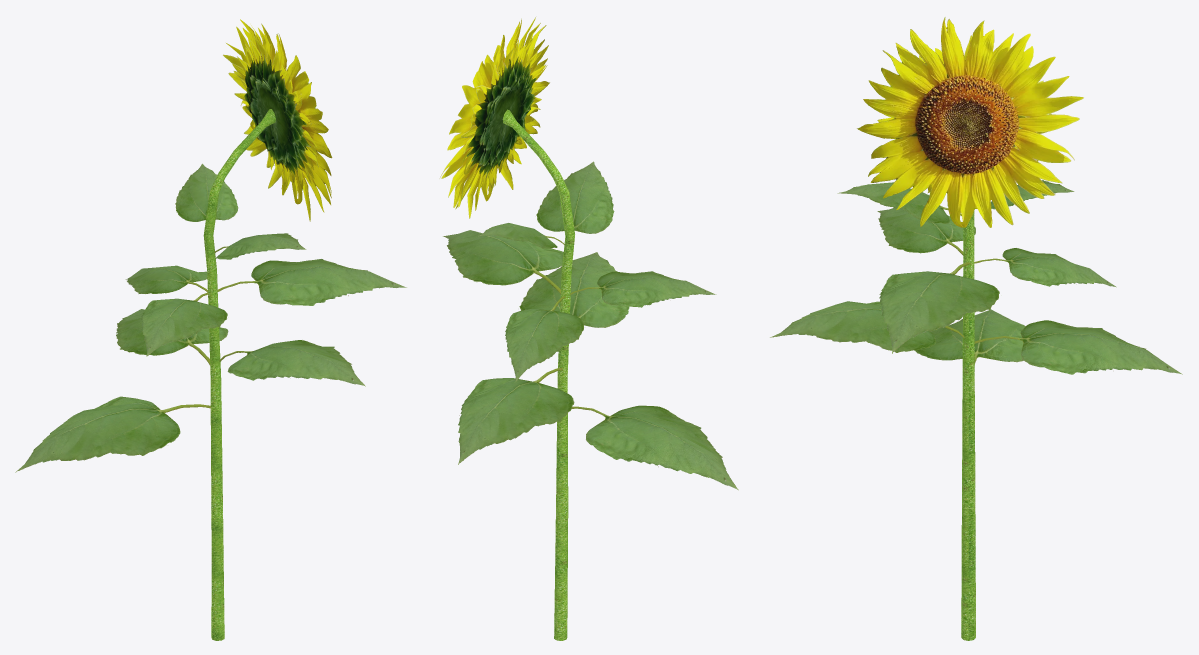
File: girasol-planta.glb
The picture shows the model from 3 angles, left to right: view 1: azimuth 30°, elevation 25°; view 2: azimuth 150°, elevation 25°; view 3: azimuth 270°, elevation 25°; orthographic projection. The views are drawn at different scales.
Parts seen in each view (by area): view 1: Object_2; view 2: Object_2; view 3: Object_2.
Boxes of the visible parts, x1,y1,x2,y2 form: Object_2: (15,19,406,640); Object_2: (439,17,738,640); Object_2: (770,17,1182,640).
Size of the model in its own units: 138 by 229 by 133.
Materials: 1 (1 with a texture image).
